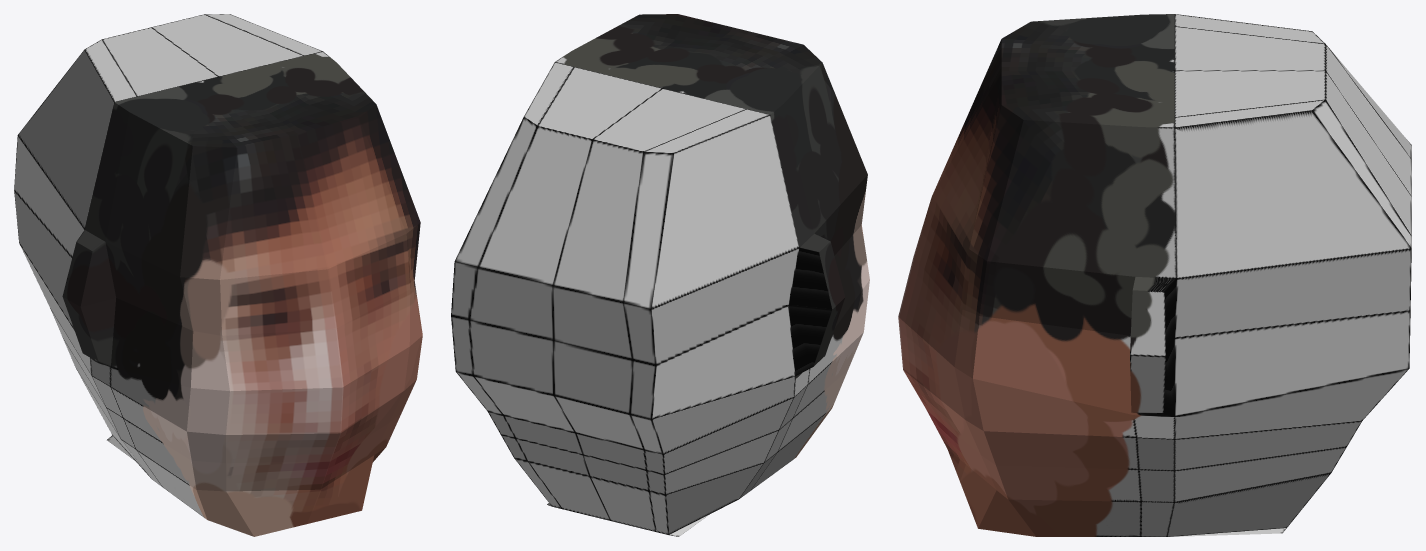
File: head_1.glb
3 renders of one model, left to right at view 1: azimuth 30°, elevation 25°; view 2: azimuth 150°, elevation 25°; view 3: azimuth 270°, elevation 25°, orthographic. The views are drawn at different scales.
Parts seen in each view (by area): view 1: Cube; view 2: Cube; view 3: Cube.
Part boxes in pixels (bbox=[...]): Cube: bbox=[14, 14, 422, 536]; Cube: bbox=[451, 14, 869, 536]; Cube: bbox=[898, 14, 1411, 536].
Bounding box in the file's own units: 2.11 × 2.41 × 2.63.
Materials: 1 (1 with a texture image).
